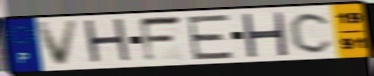C: (287, 10, 336, 55)
E: (185, 13, 236, 62)
F: (137, 14, 186, 64)
H: (81, 17, 134, 67), (240, 12, 290, 57)
V: (34, 18, 83, 68)
